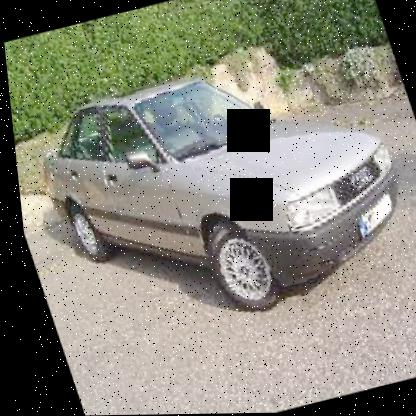not_emergency: (7, 25, 415, 363)
